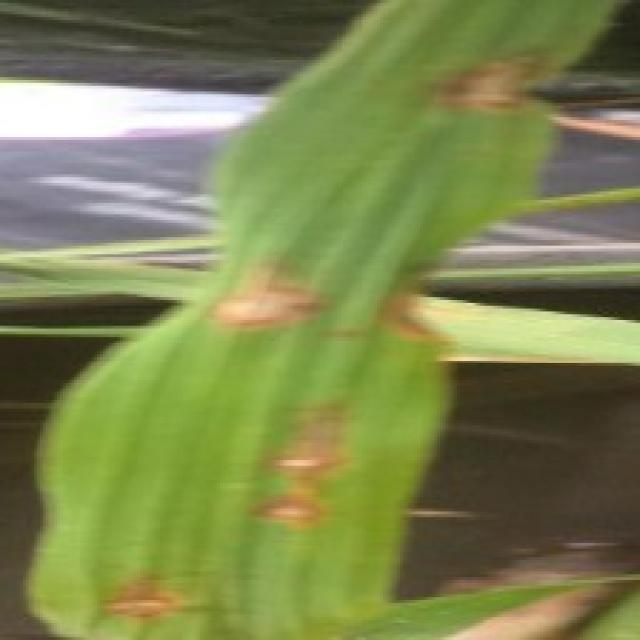Unhealthy: (252, 398, 356, 520), (440, 585, 636, 640), (208, 260, 336, 328), (432, 50, 562, 116), (382, 290, 456, 340), (103, 570, 176, 614), (548, 110, 640, 139)
